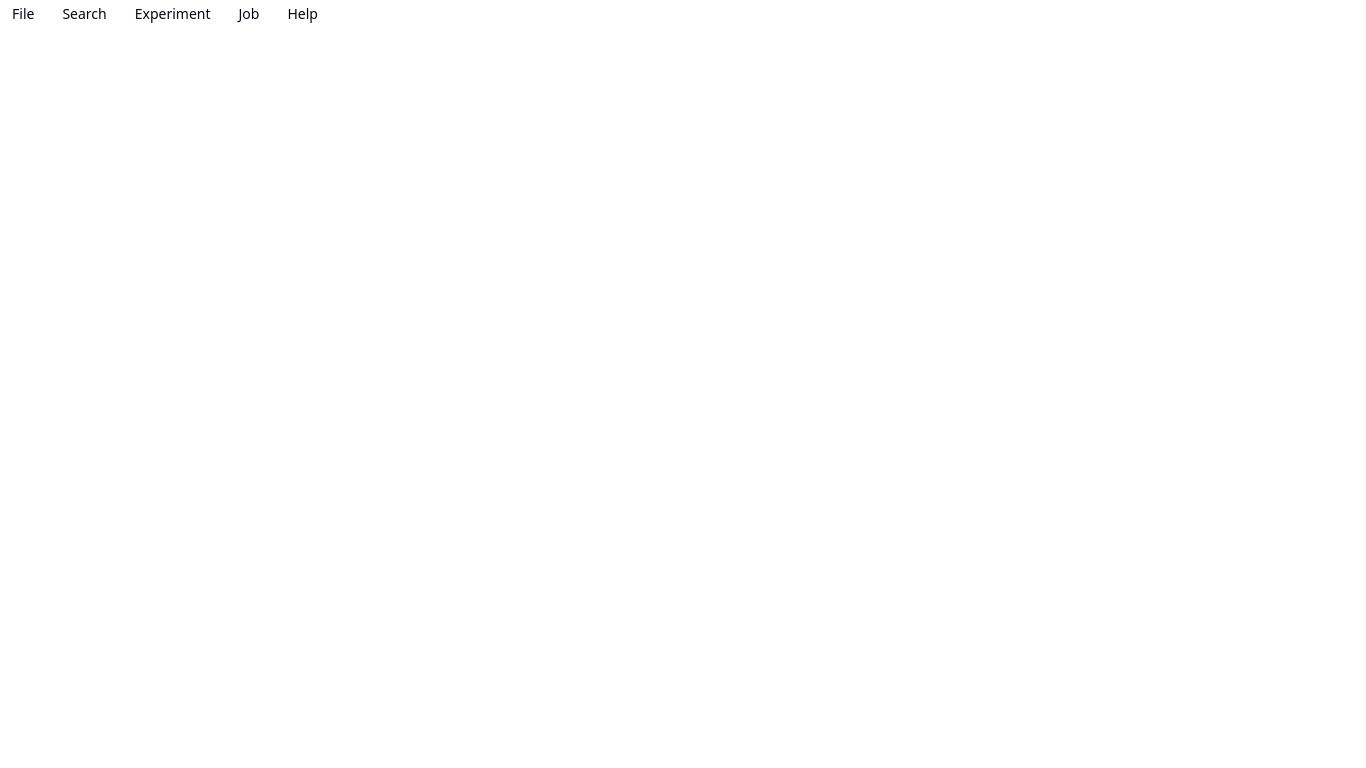
Scenario: MenuBarActions › opens copy experiment dialog from Experiment menu
Click the menu item "Experiment" at [173, 14], box [123, 0, 222, 28]
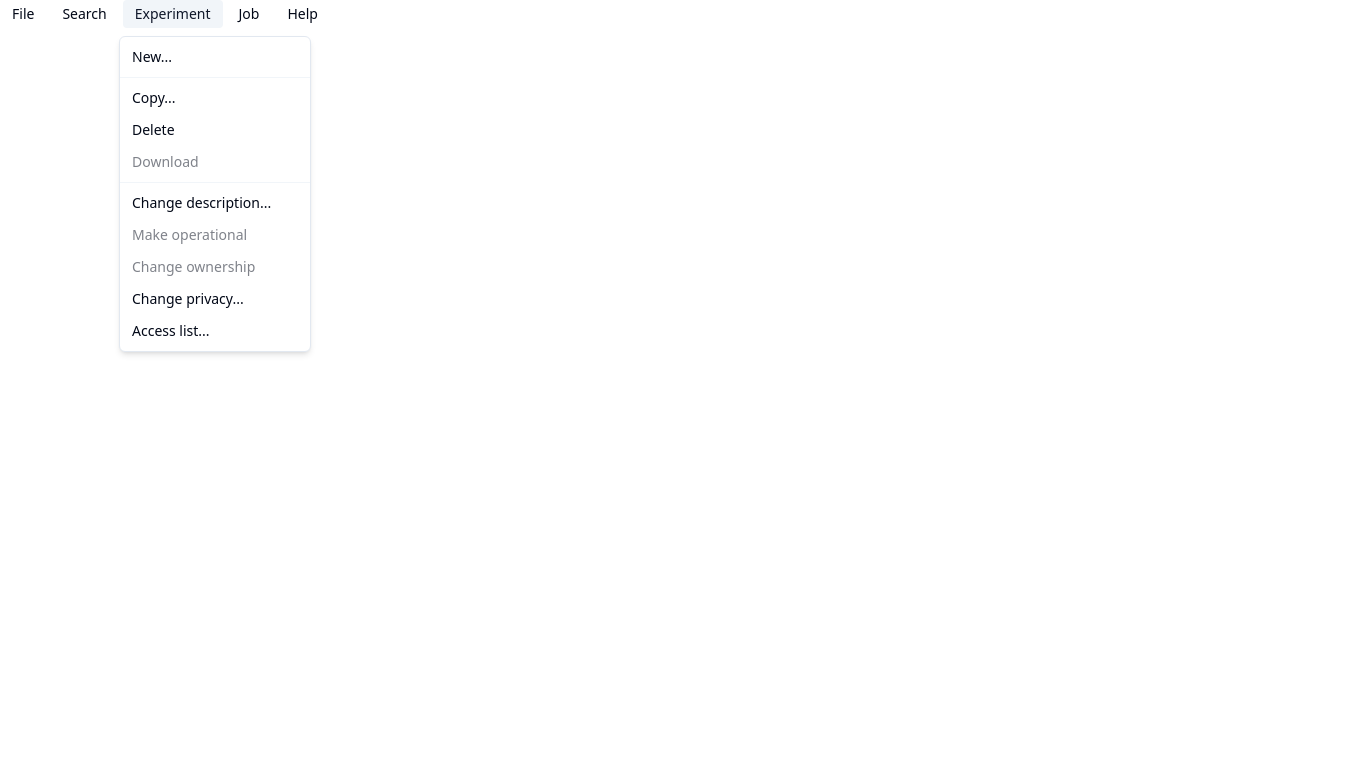
Click the menu item "Copy..." at [154, 98], box [132, 88, 176, 107]
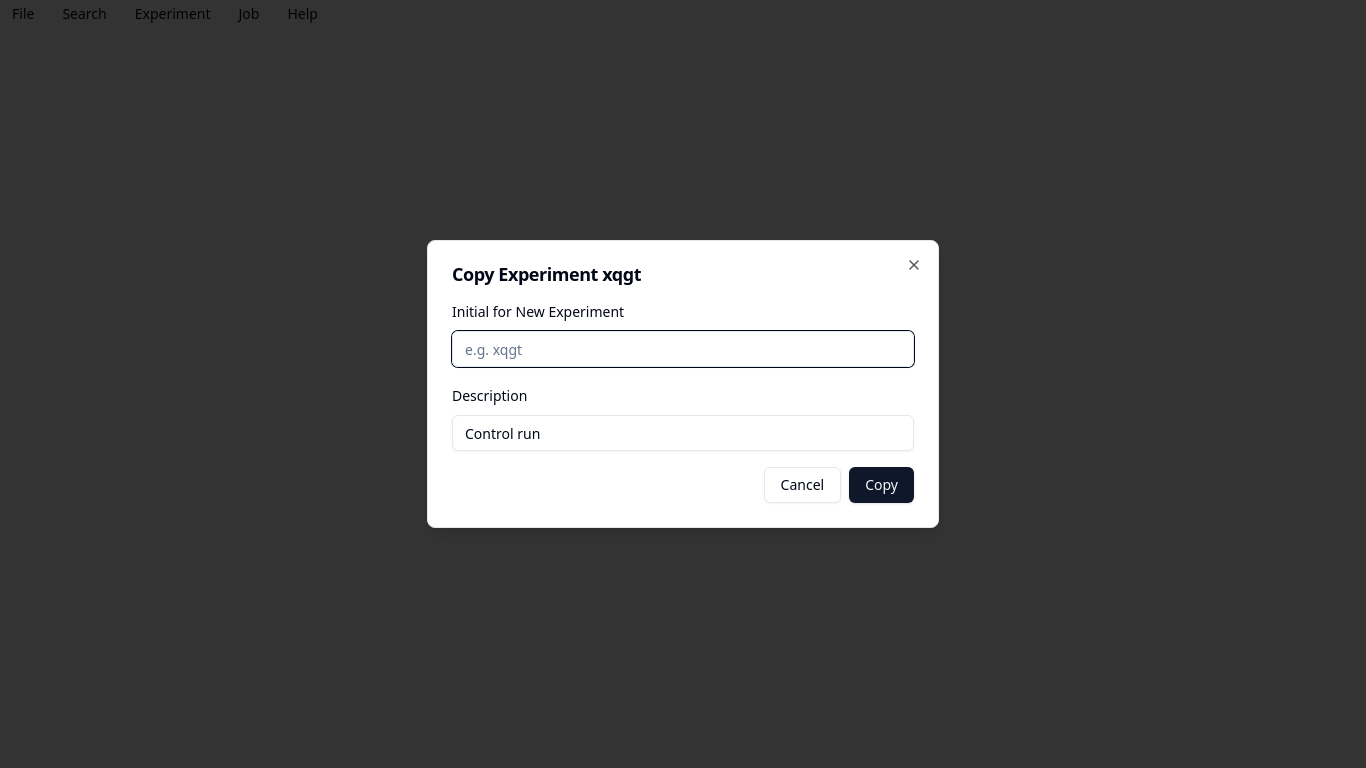
Now the heading "Copy Experiment xqgt" is shown, box [452, 262, 641, 286]
